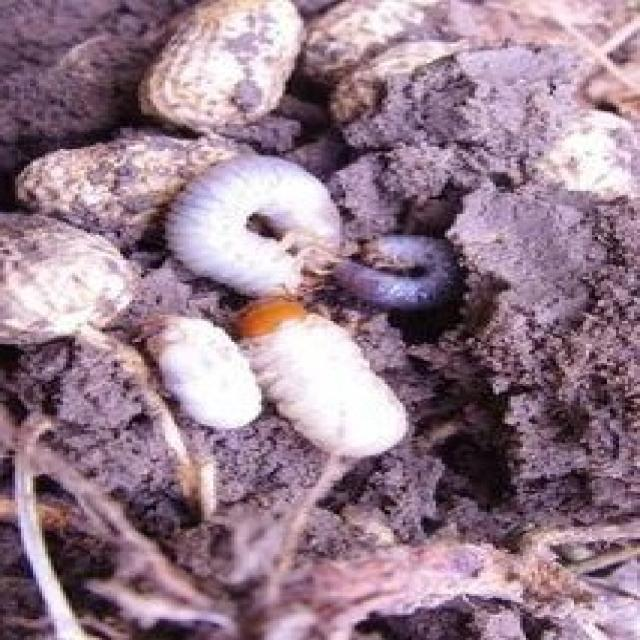grub: (148, 156, 359, 303), (263, 299, 419, 471), (149, 318, 263, 444), (344, 227, 482, 313)
